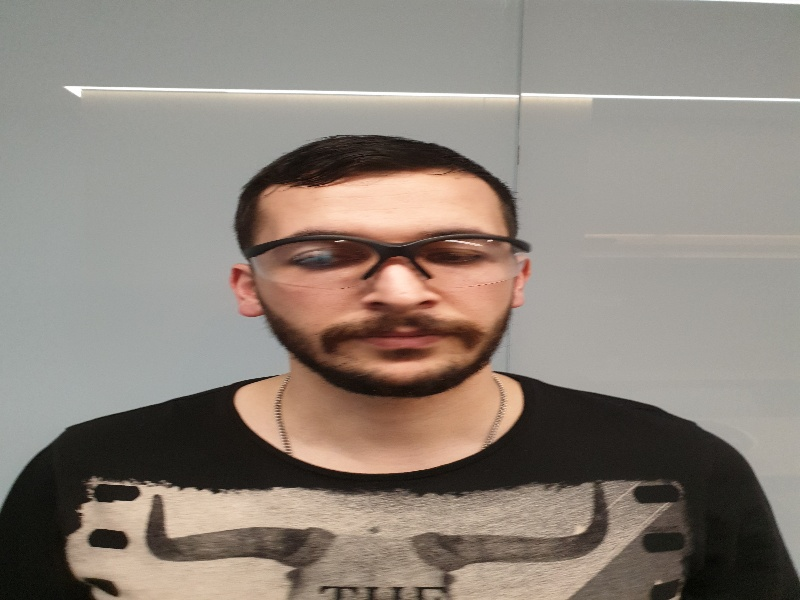Gozluk: (244, 235, 529, 286)
